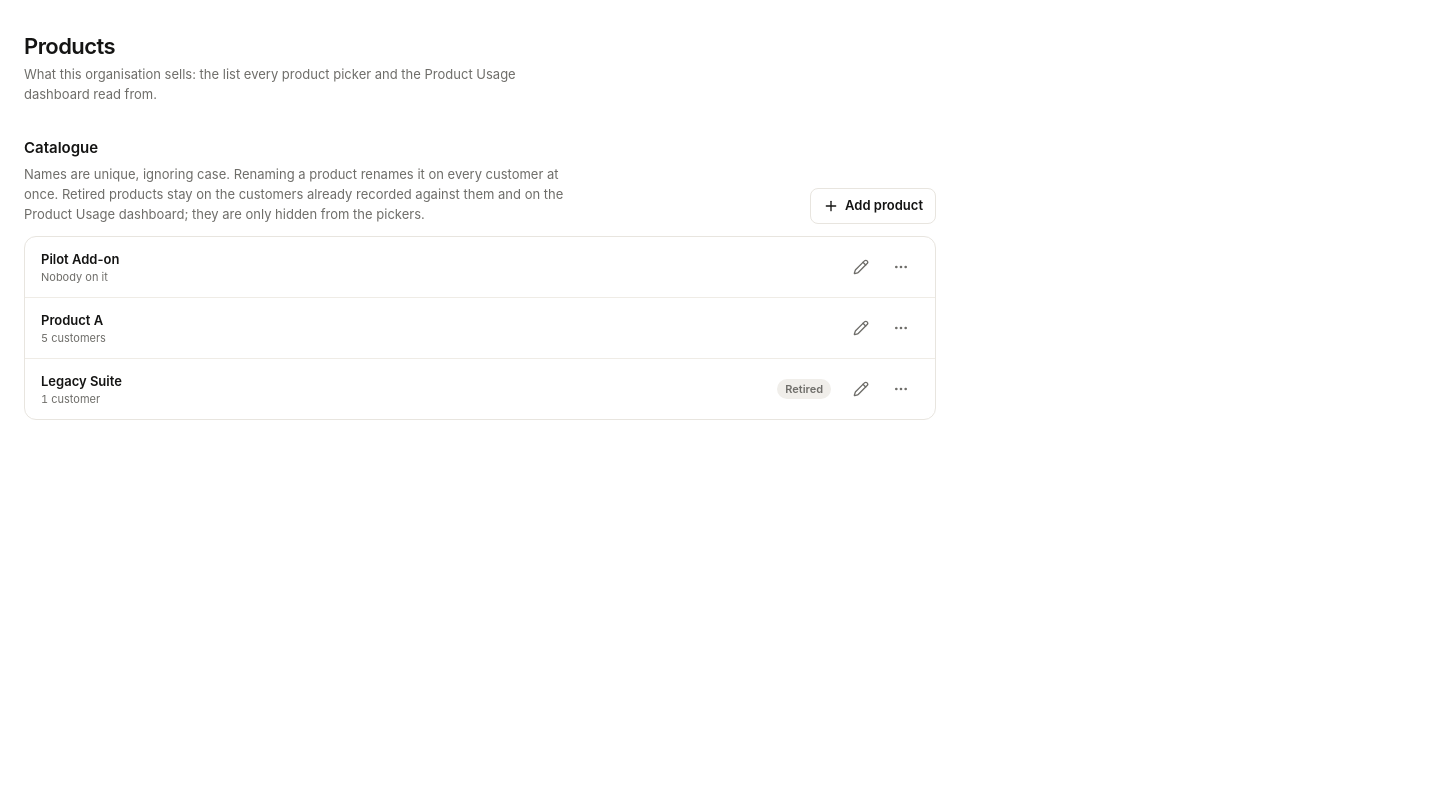
Scenario: ProductsPage › deletes a product nobody is on, after confirming
expect the text "Pilot Add-on" is shown: met, box [41, 251, 119, 267]
Click the button named "More actions for Pilot Add-on" at [901, 267], box [883, 249, 919, 285]
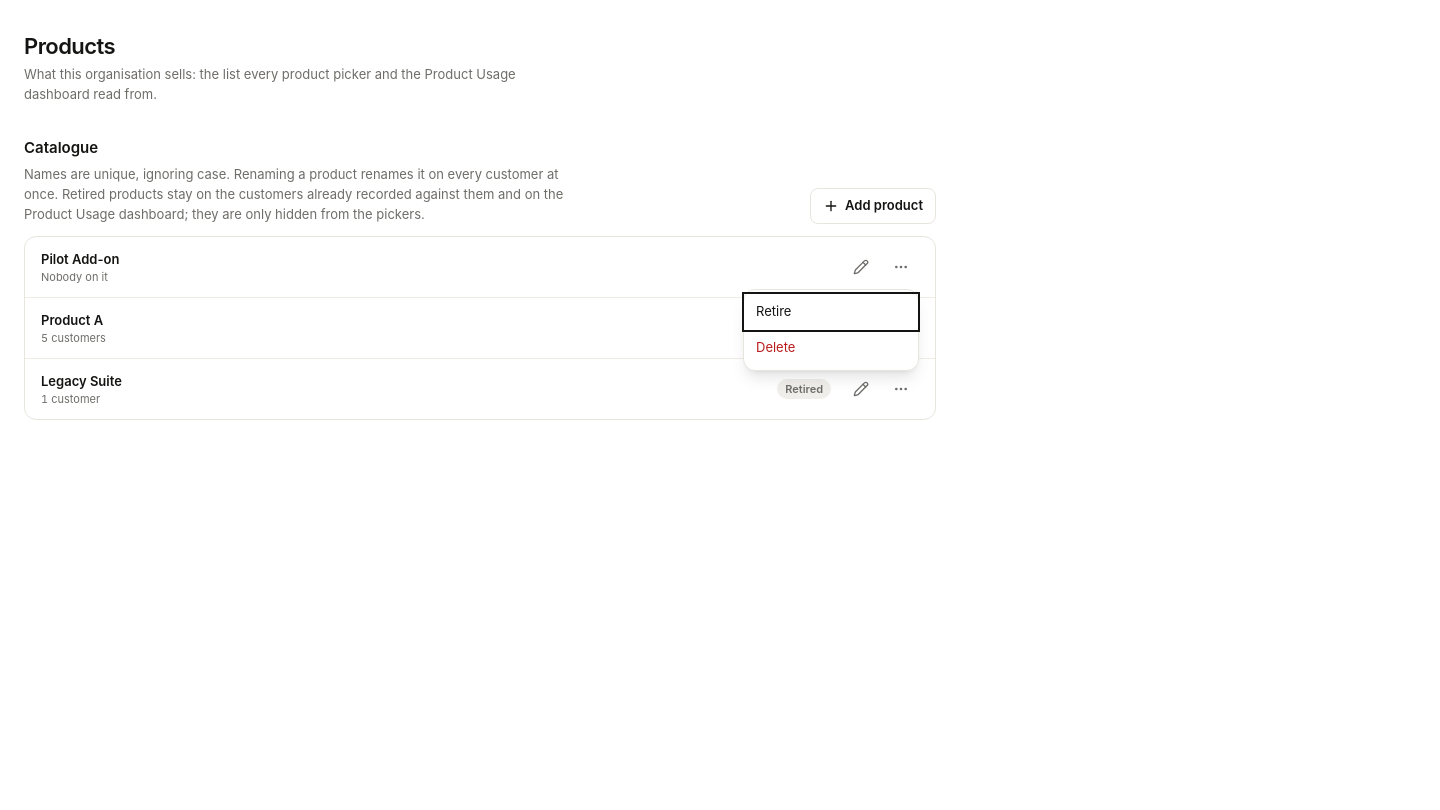
Click the menu item "Delete" at [831, 348], box [744, 330, 918, 366]
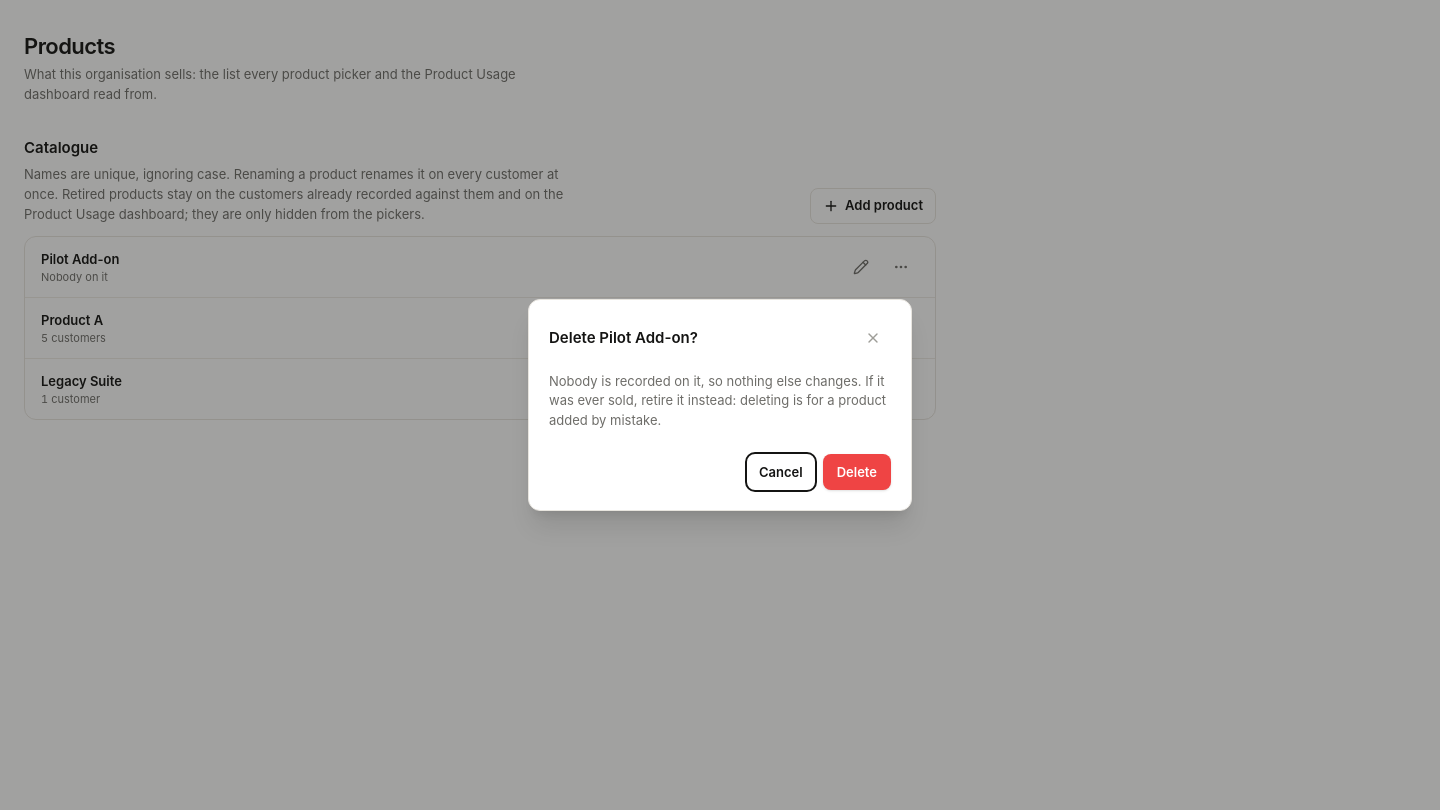
Click the button "Delete" at [857, 472], box [823, 454, 891, 490]
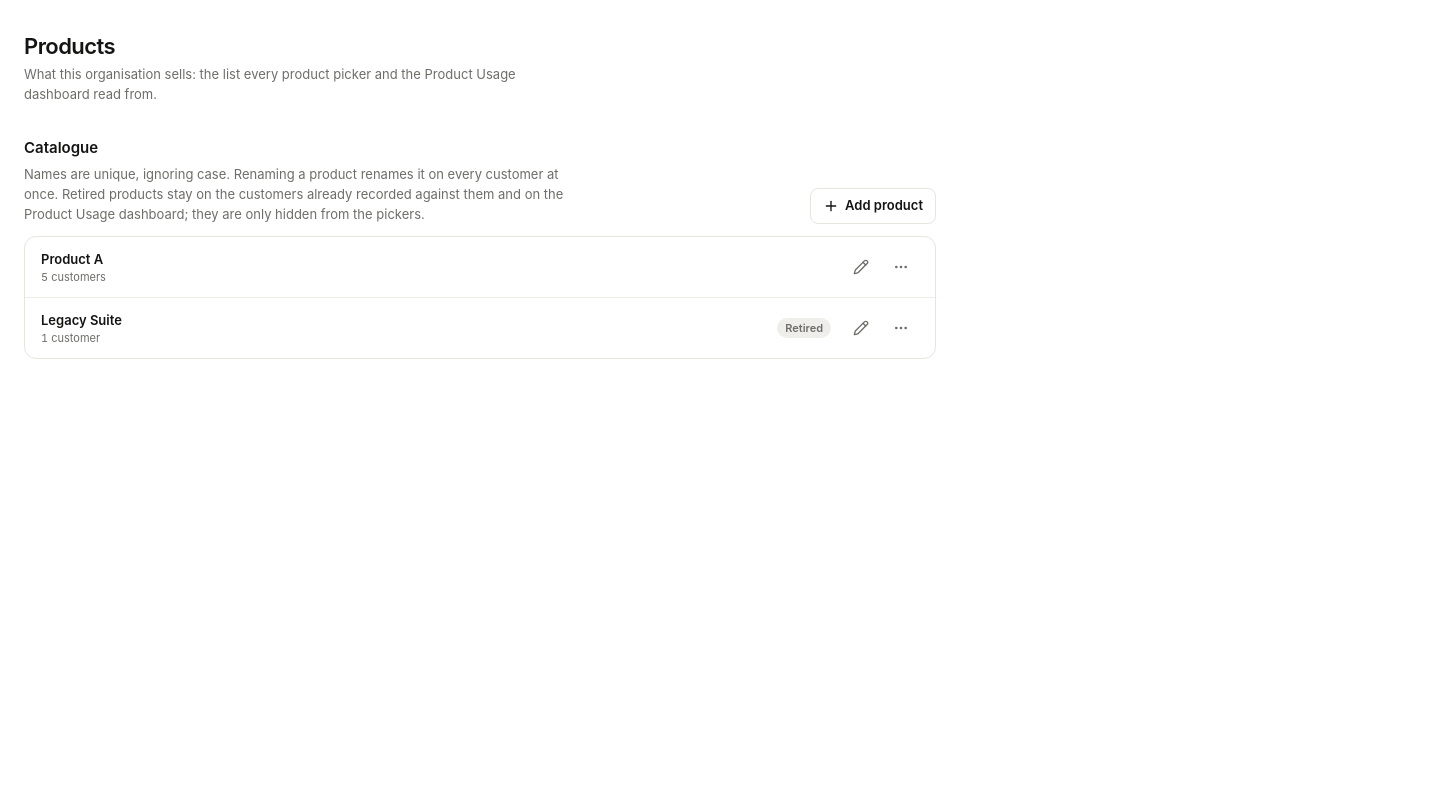
expect the text "Pilot Add-on" is gone: met
